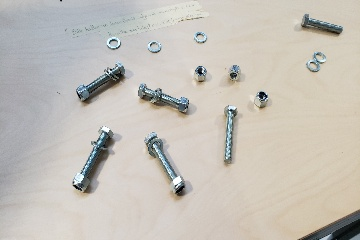Bolt: (221, 103, 240, 166), (299, 12, 344, 38)
FalseAssembly: (67, 121, 114, 201), (141, 128, 190, 197)
FinishedAssembly: (73, 60, 127, 103), (136, 82, 191, 115)
Nut: (191, 64, 212, 83), (250, 91, 270, 110), (226, 65, 242, 81)
Washer: (144, 40, 164, 54), (105, 35, 122, 51), (305, 58, 322, 74), (312, 48, 329, 63), (194, 31, 207, 43)
